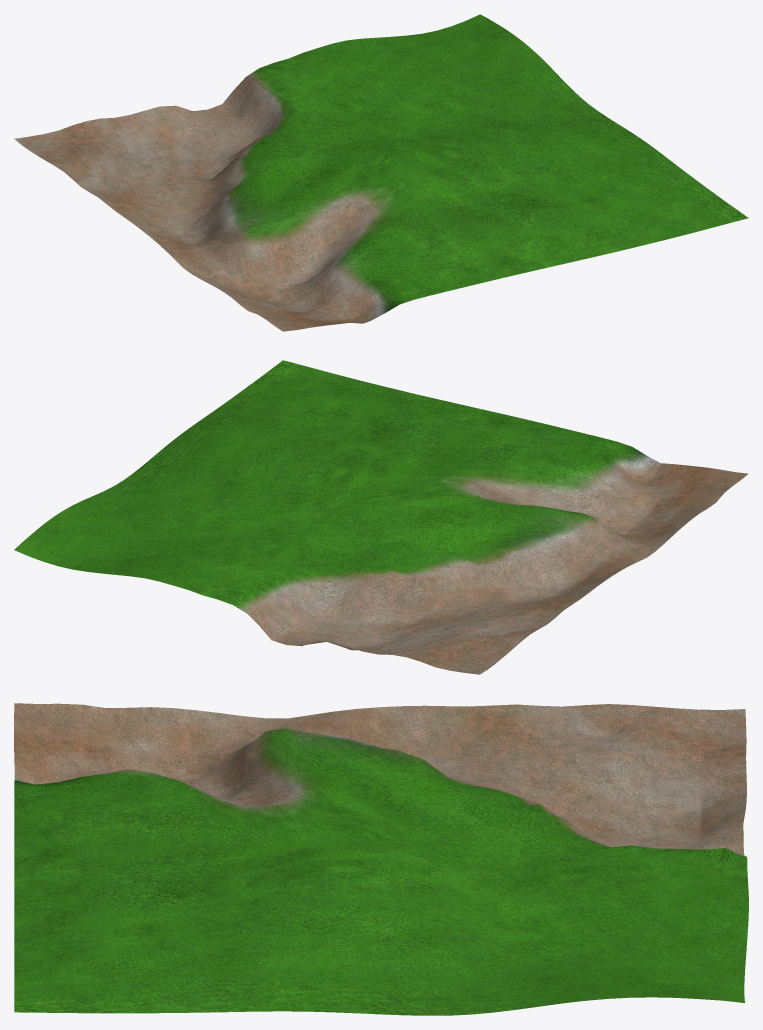
Rendered from terrain.dae.
3 renders of one model, top to bottom at view 1: azimuth 30°, elevation 25°; view 2: azimuth 150°, elevation 25°; view 3: azimuth 270°, elevation 25°, orthographic. The views are drawn at different scales.
Visible parts, largest first — view 1: Plane.175, Plane.172, Plane.056, Plane.174, Plane.074, Plane.054, Plane.089, Plane.013, Plane.189, Plane.138, Plane.008, Plane.208 (+92 smaller); view 2: Plane.192, Plane.024, Plane.161, Plane.163, Plane.115, Plane.200, Plane.034, Plane.036, Plane.233, Plane.114, Plane.089, Plane.008 (+78 smaller); view 3: Plane.085, Plane.010, Plane.030, Plane.093, Plane.119, Plane.166, Plane.113, Plane.111, Plane.253, Plane.212, Plane.005, Plane.026 (+210 smaller).
Boxes of the visible parts, x1,y1,x2,y2 form: Plane.175: (268, 215, 314, 255); Plane.172: (336, 275, 381, 318); Plane.056: (256, 253, 301, 293); Plane.174: (210, 235, 255, 277); Plane.074: (239, 222, 284, 261); Plane.054: (298, 211, 342, 250); Plane.089: (233, 83, 278, 130); Plane.013: (129, 106, 174, 139); Plane.189: (327, 200, 372, 236); Plane.138: (285, 250, 330, 283); Plane.008: (218, 76, 261, 117); Plane.208: (227, 262, 272, 295); Plane.192: (326, 568, 371, 616); Plane.024: (401, 573, 446, 619); Plane.161: (510, 542, 556, 592); Plane.163: (464, 550, 510, 595); Plane.115: (372, 560, 417, 609); Plane.200: (355, 580, 400, 627); Plane.034: (280, 571, 325, 618); Plane.036: (527, 527, 572, 573); Plane.233: (565, 478, 611, 519); Plane.114: (418, 555, 463, 599); Plane.089: (263, 584, 308, 630); Plane.008: (247, 597, 291, 641); Plane.085: (381, 705, 427, 744); Plane.010: (151, 707, 197, 747); Plane.030: (427, 705, 473, 742); Plane.093: (197, 710, 243, 747); Plane.119: (106, 707, 151, 742); Plane.166: (611, 751, 656, 783); Plane.113: (657, 777, 702, 812); Plane.111: (151, 743, 197, 778); Plane.253: (565, 783, 611, 815); Plane.212: (565, 752, 611, 785); Plane.005: (335, 707, 381, 742); Plane.026: (60, 703, 105, 738).
Size of the model in its own units: 6.01 by 6.03 by 0.6205.
